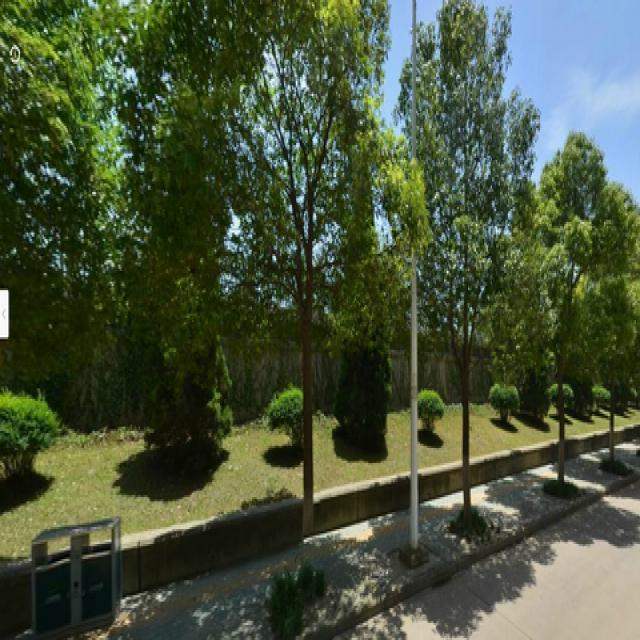cinn: (419, 17, 525, 531), (536, 145, 612, 486)
